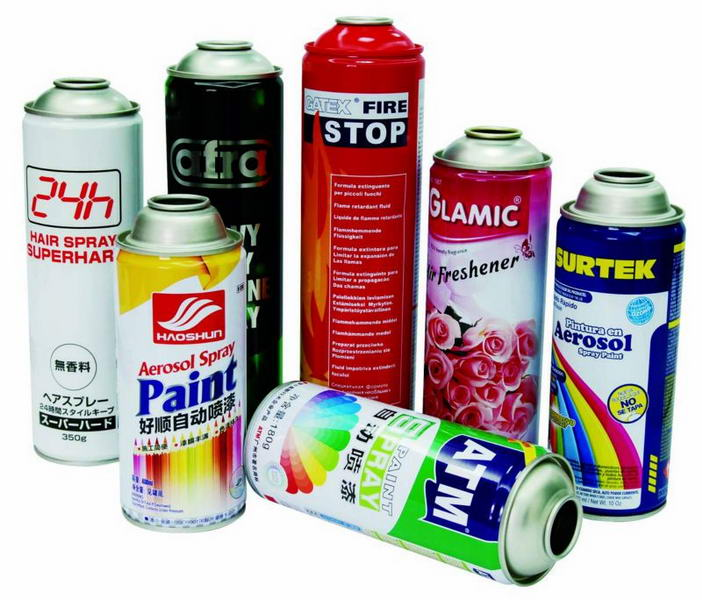Aerosol_cans: (243, 377, 586, 592), (17, 73, 145, 468), (550, 164, 686, 522), (114, 191, 254, 536), (298, 13, 418, 414), (163, 35, 285, 387), (425, 120, 543, 444)
